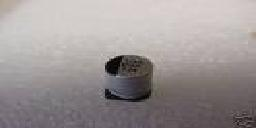Electrolytic-Capacitor: (100, 53, 156, 107)
